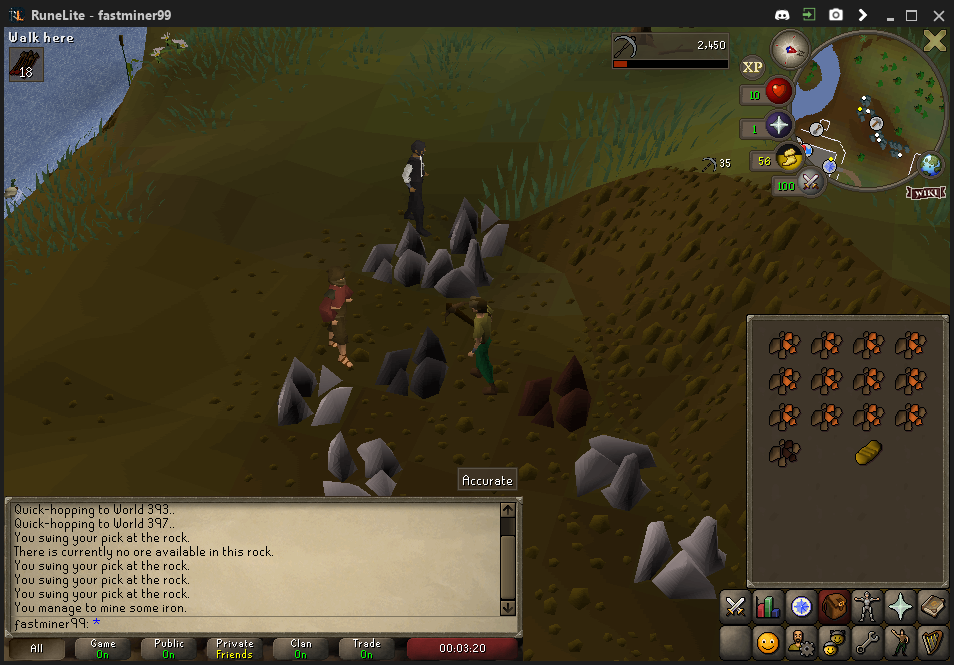depleted: (375, 327, 455, 397)
ore: (515, 359, 598, 430)
